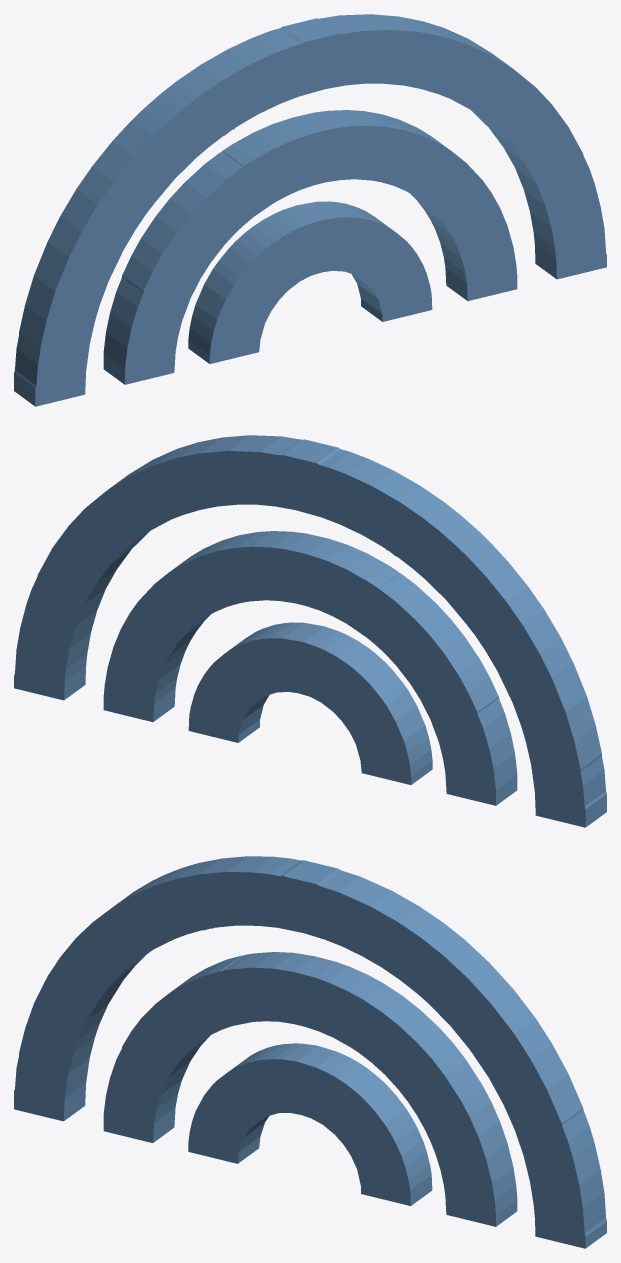
Rendered from bytecorp-rainbow.glb.
3 renders of one model, top to bottom at view 1: azimuth 30°, elevation 25°; view 2: azimuth 150°, elevation 25°; view 3: azimuth 330°, elevation 25°, orthographic.
Parts seen in each view (by area): view 1: geometry_0; view 2: geometry_0; view 3: geometry_0.
Part boxes in pixels (box(x1,y1,x2,y2)): geometry_0: box(14, 14, 606, 406); geometry_0: box(14, 435, 606, 827); geometry_0: box(14, 856, 606, 1248).
Bounding box in the file's own units: 2 × 0.9989 × 0.13.
